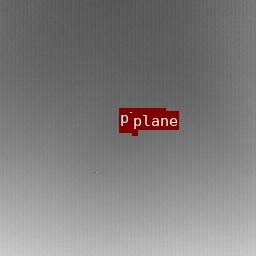plane: (119, 127, 132, 132), (132, 130, 137, 134)
